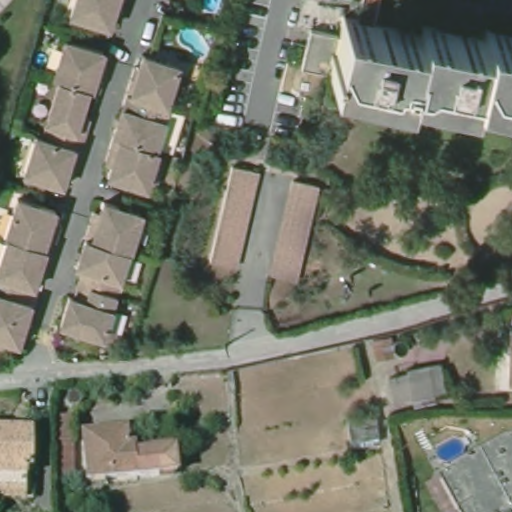pool: (173, 30, 209, 64), (433, 434, 472, 463), (194, 1, 225, 17), (33, 51, 52, 67)
